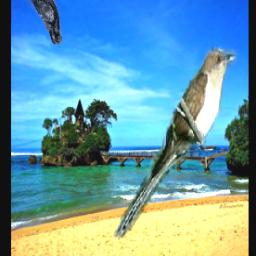Crow: (23, 0, 63, 45)
Cuckoo: (114, 47, 239, 246)
